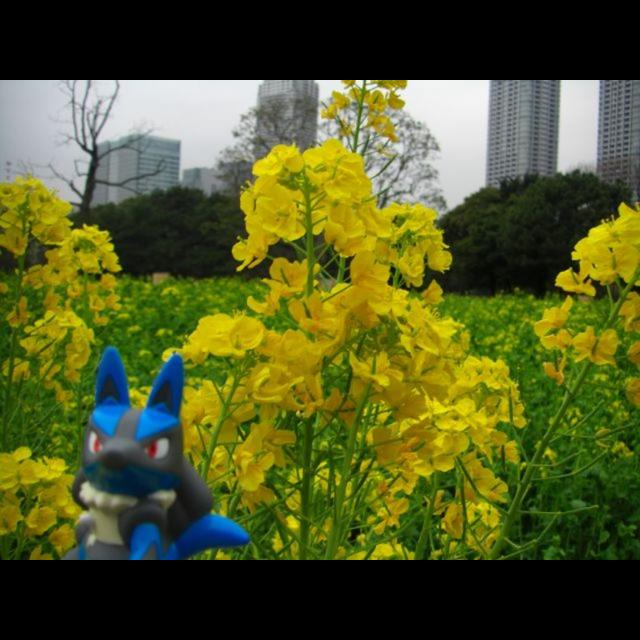Flower: (1, 80, 640, 560), (232, 131, 392, 313)
